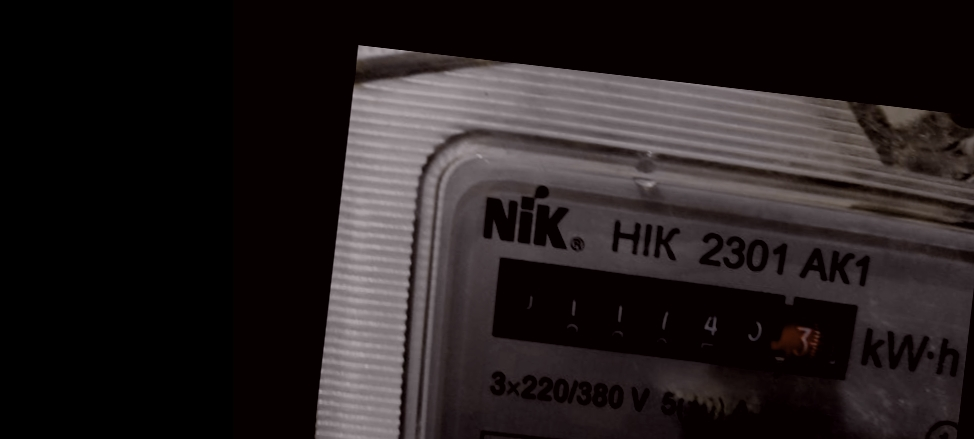0: (514, 274, 541, 315), (564, 278, 586, 321)
1: (610, 285, 631, 327)
3: (744, 303, 769, 348), (791, 322, 815, 362)
4: (700, 298, 724, 340)
7: (653, 290, 681, 336)
screen: (471, 243, 869, 393)
